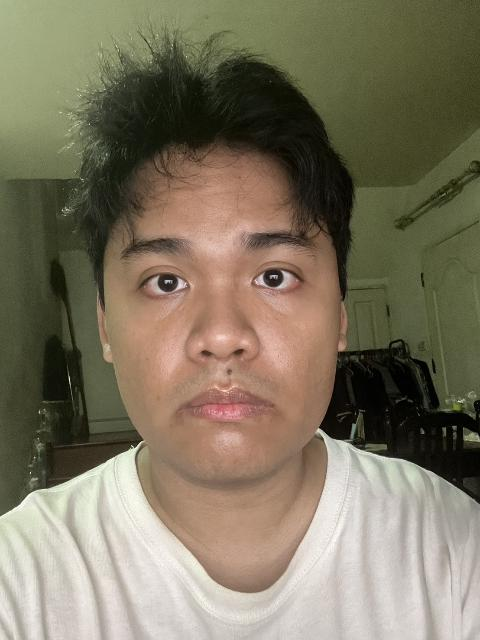fokus: (94, 107, 346, 478)
